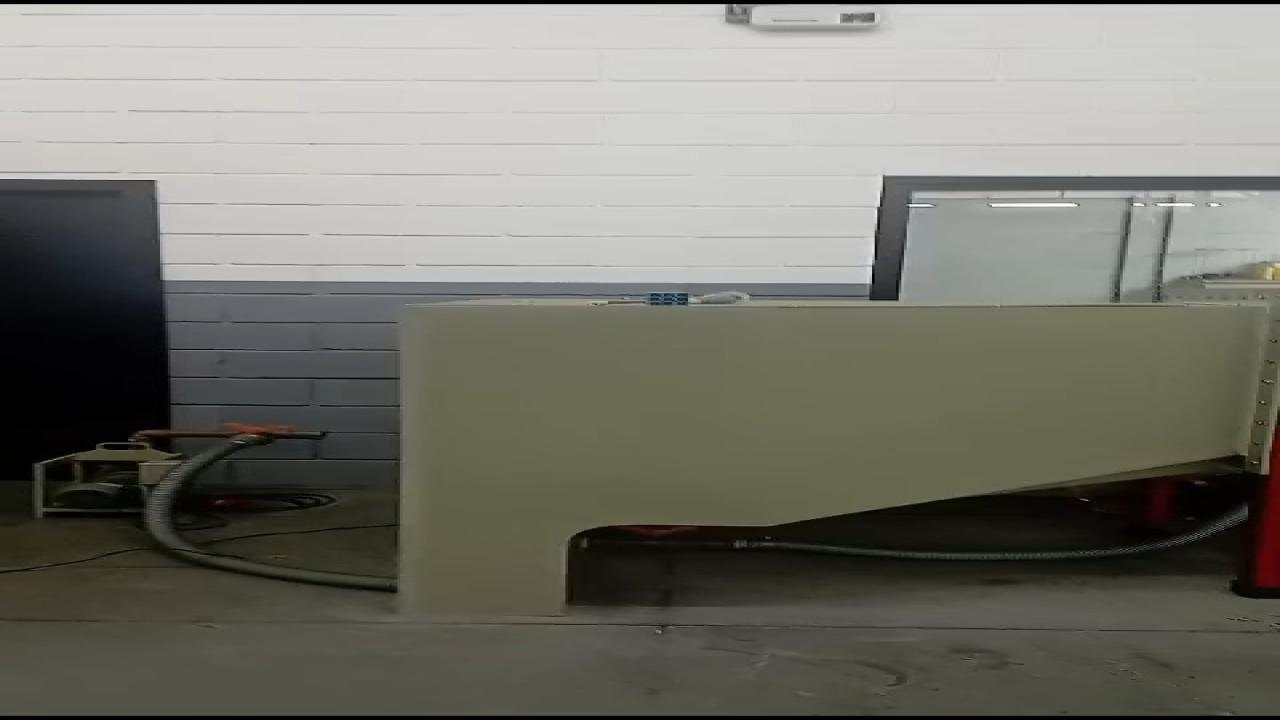Cube: (646, 292, 689, 306)
